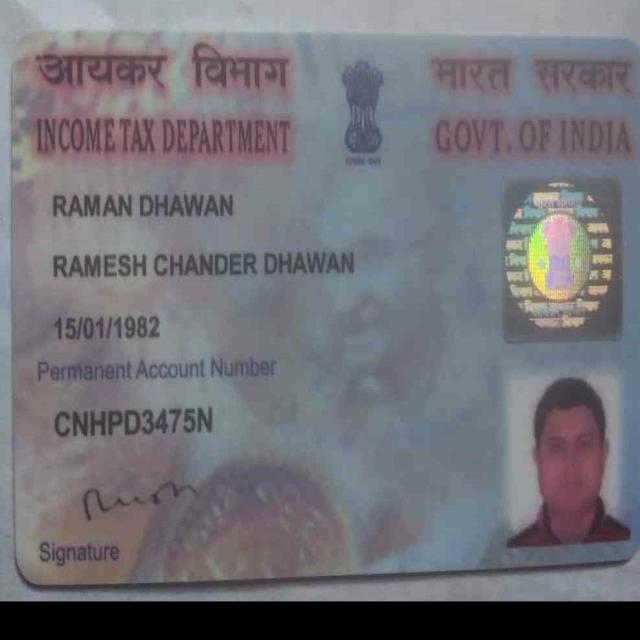pan_card: (15, 42, 637, 581)
